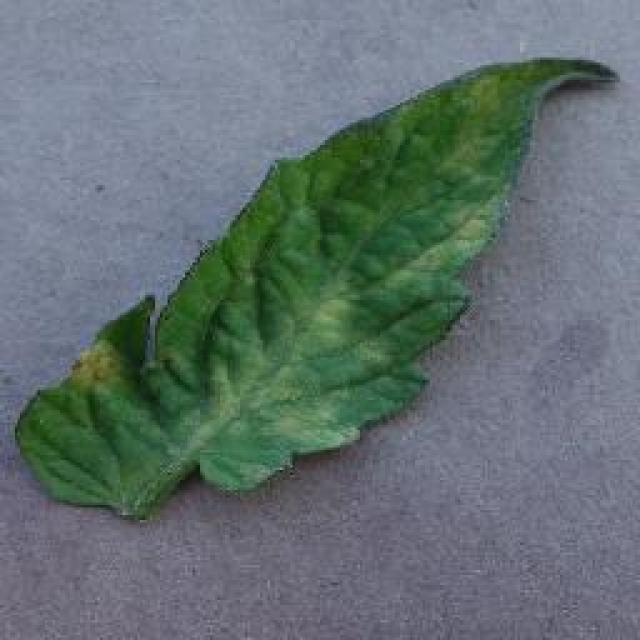Tomato___Leaf_Mold: (15, 58, 615, 518)
